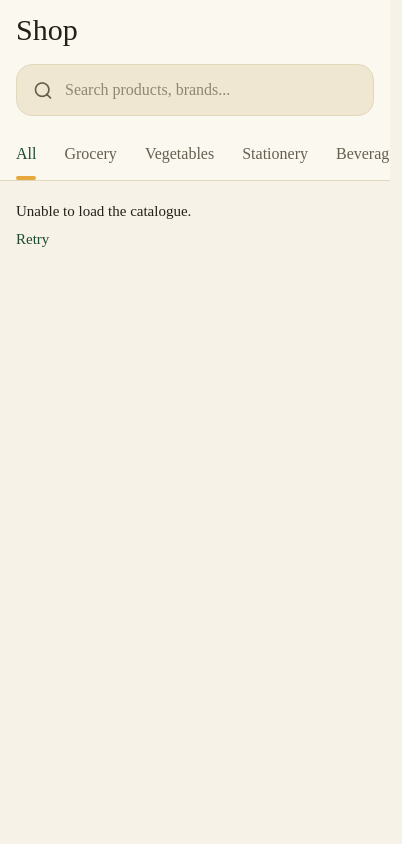
Test: ShopScreen › shows an error and retries the product query
Check: the text "Unable to load the catalogue." is shown, box [16,203,191,219]
Click the text "Retry" at [33, 239], box [16,231,49,247]
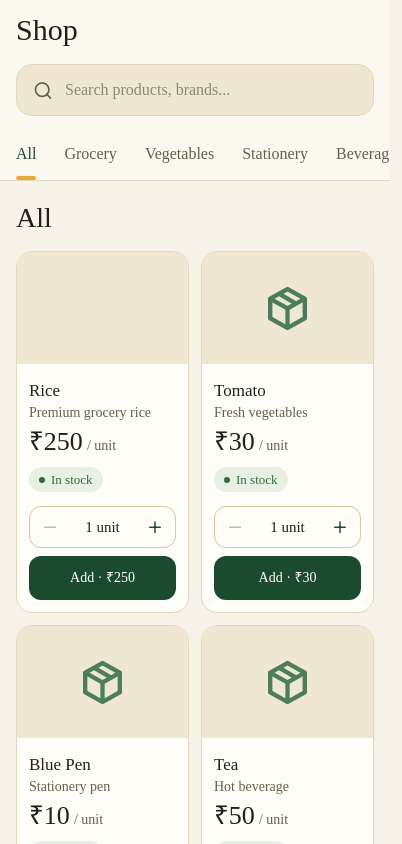
Check: the text "Rice" is shown, box [29,381,60,400]
